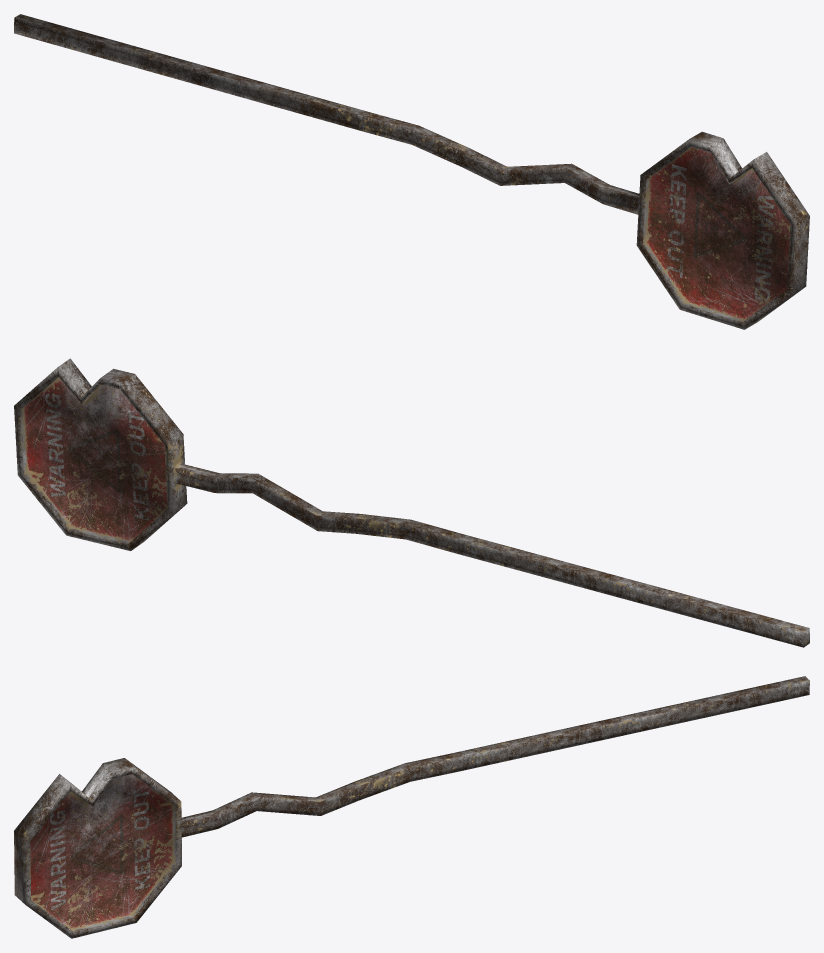
File: Anim_idle_senyal_objetos.0015.obj
3 renders of one model, top to bottom at view 1: azimuth 30°, elevation 25°; view 2: azimuth 210°, elevation 25°; view 3: azimuth 270°, elevation 25°, orthographic. The views are drawn at different scales.
Bounding box in the file's own units: 5.89 × 2.54 × 11.28.
